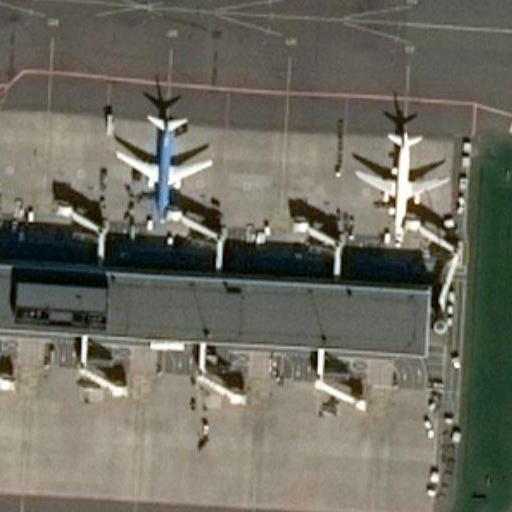Aircraft: (111, 104, 212, 219), (351, 121, 447, 240)
